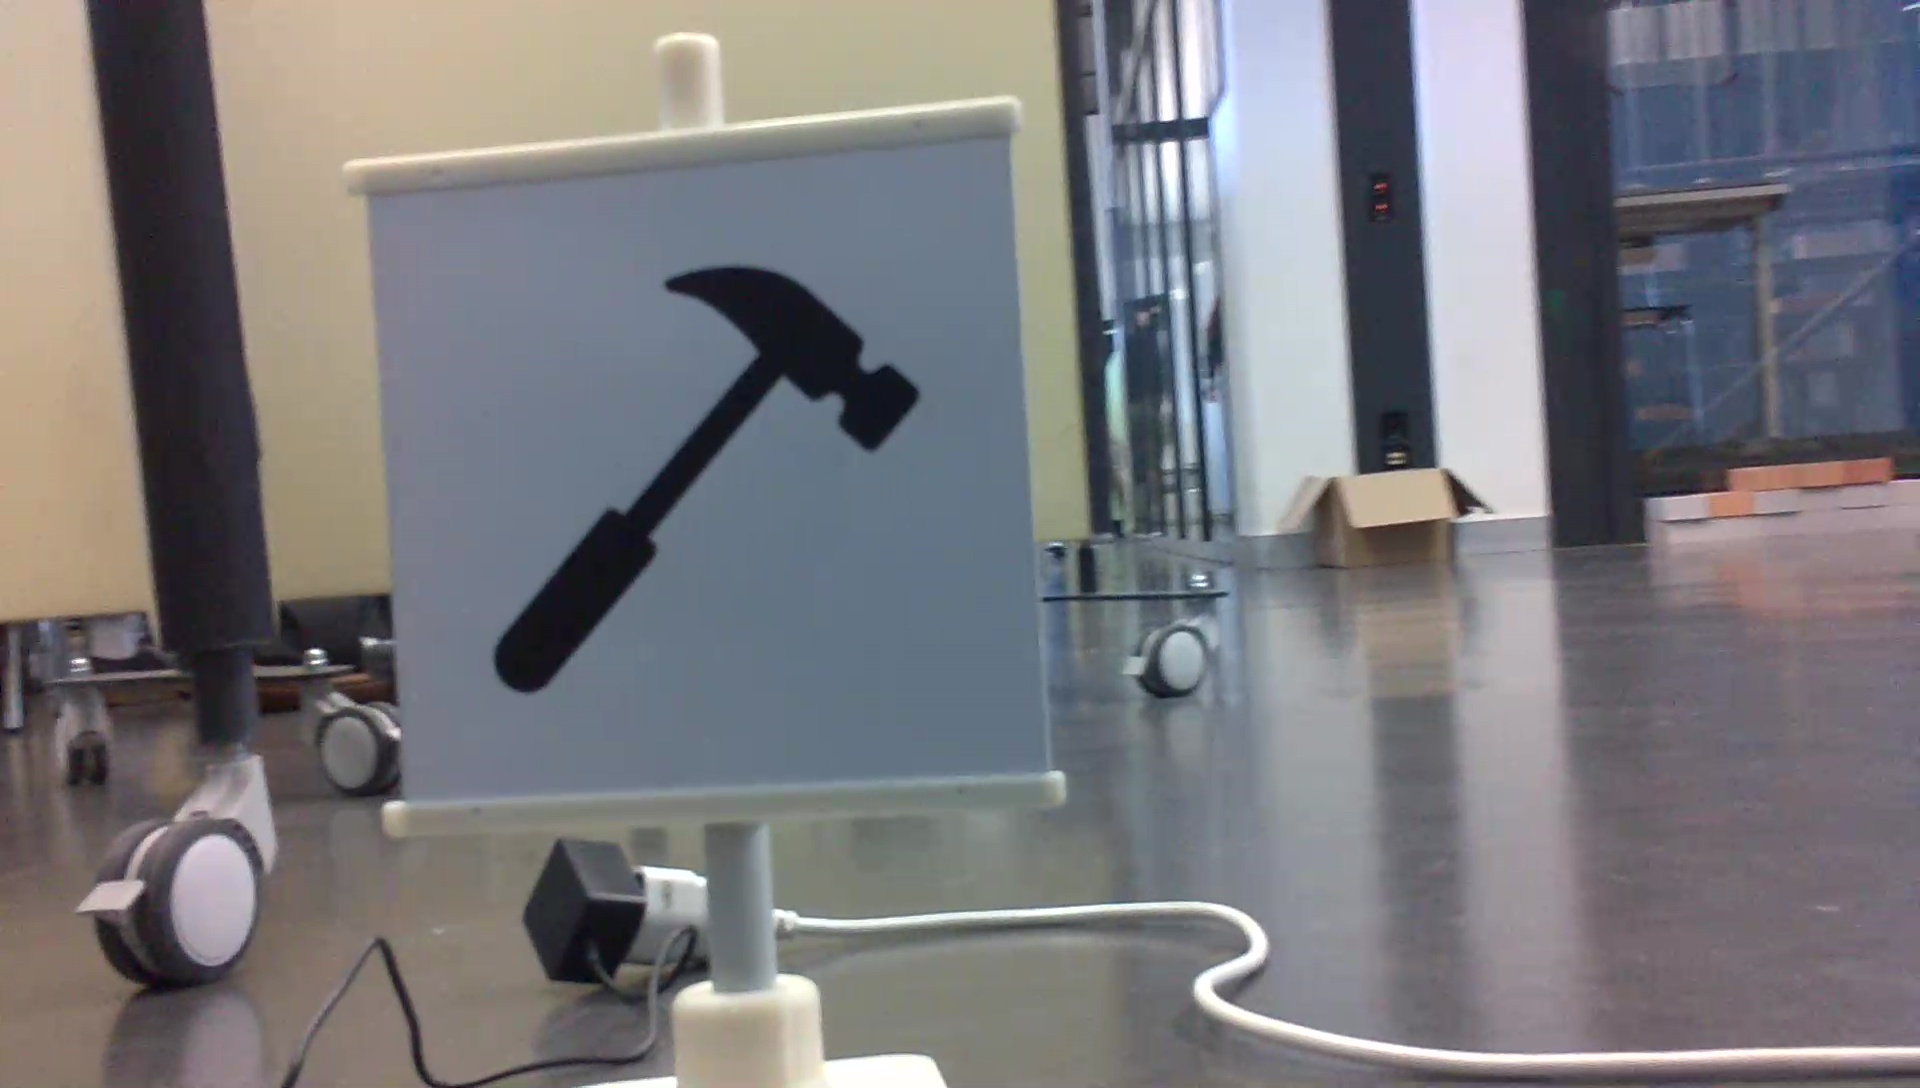hammer: (483, 255, 928, 706)
